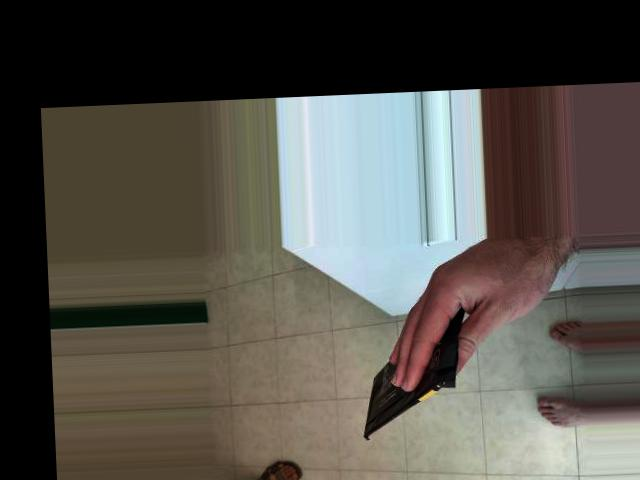chocolate: (349, 286, 481, 442)
